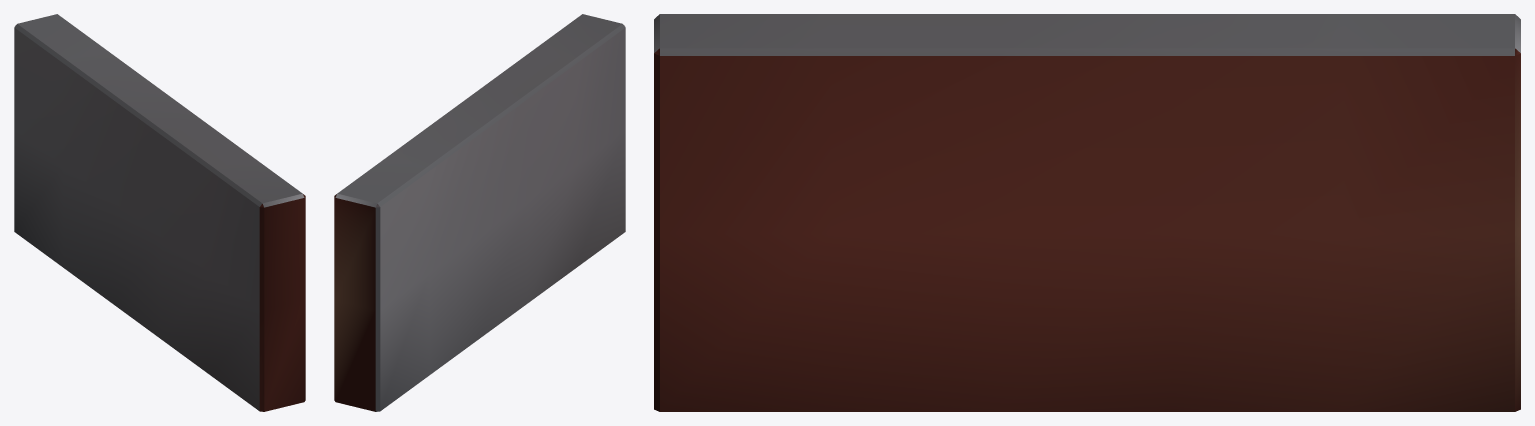
The model's file is pithead_team_red.glb.
3 renders of one model, left to right at view 1: azimuth 30°, elevation 25°; view 2: azimuth 150°, elevation 25°; view 3: azimuth 270°, elevation 25°, orthographic. The views are drawn at different scales.
Visible parts, largest first — view 1: team_red; view 2: team_red; view 3: team_red.
Boxes of the visible parts, x1=… form: team_red: x1=14, y1=14, x2=305, y2=411; team_red: x1=334, y1=14, x2=625, y2=411; team_red: x1=654, y1=14, x2=1520, y2=411.
Size of the model in its own units: 0.32 by 1.38 by 3.
